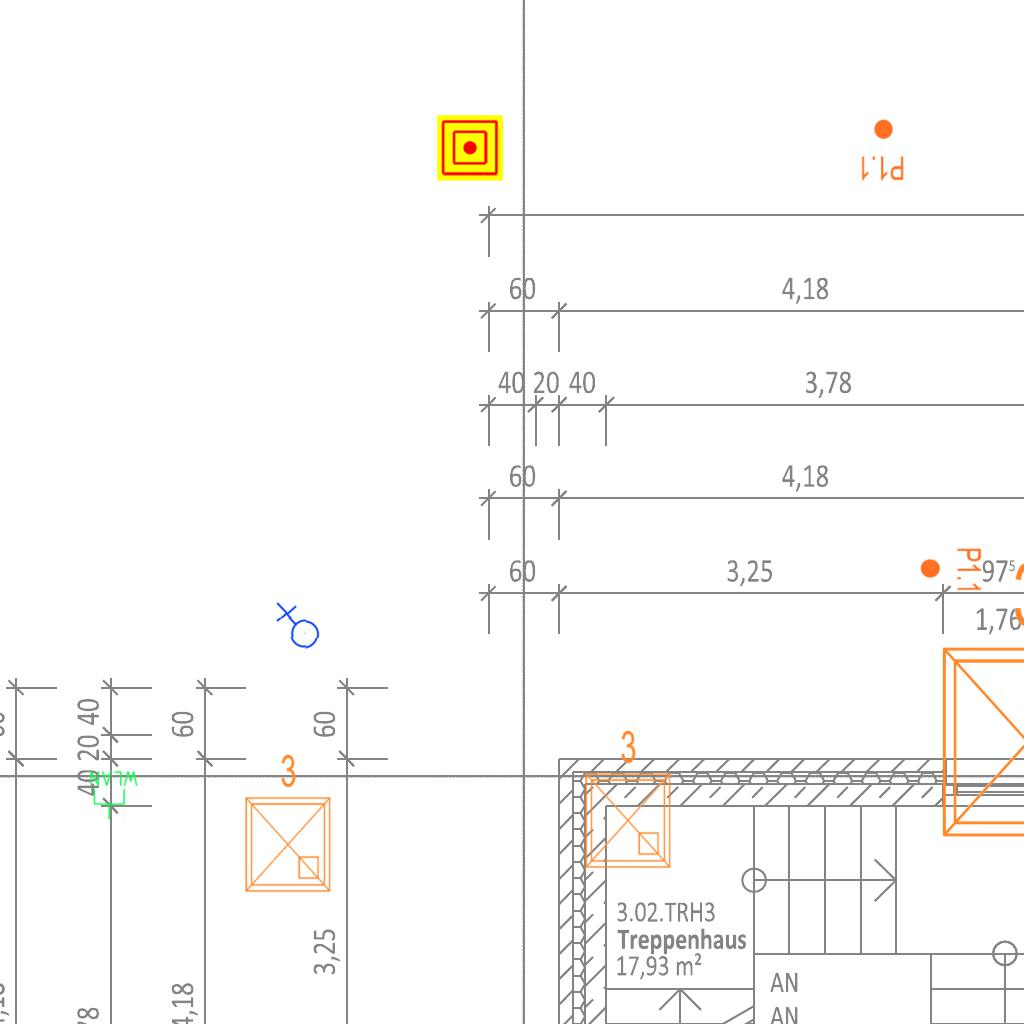Downlight_LED_Einbauleuchten_Flur: (919, 547, 983, 593), (859, 118, 905, 182)
Einbaudownlights_LED_Konferenzraeume: (920, 551, 1024, 851), (574, 725, 678, 875), (234, 749, 338, 899)
Elektroanschluss_allgemein_230V_Geraeteanschlussdose_230V: (271, 601, 322, 654)
NAM-Nichtautomatischer_Melder: (437, 115, 503, 181)
WLAN: (88, 769, 140, 821)
